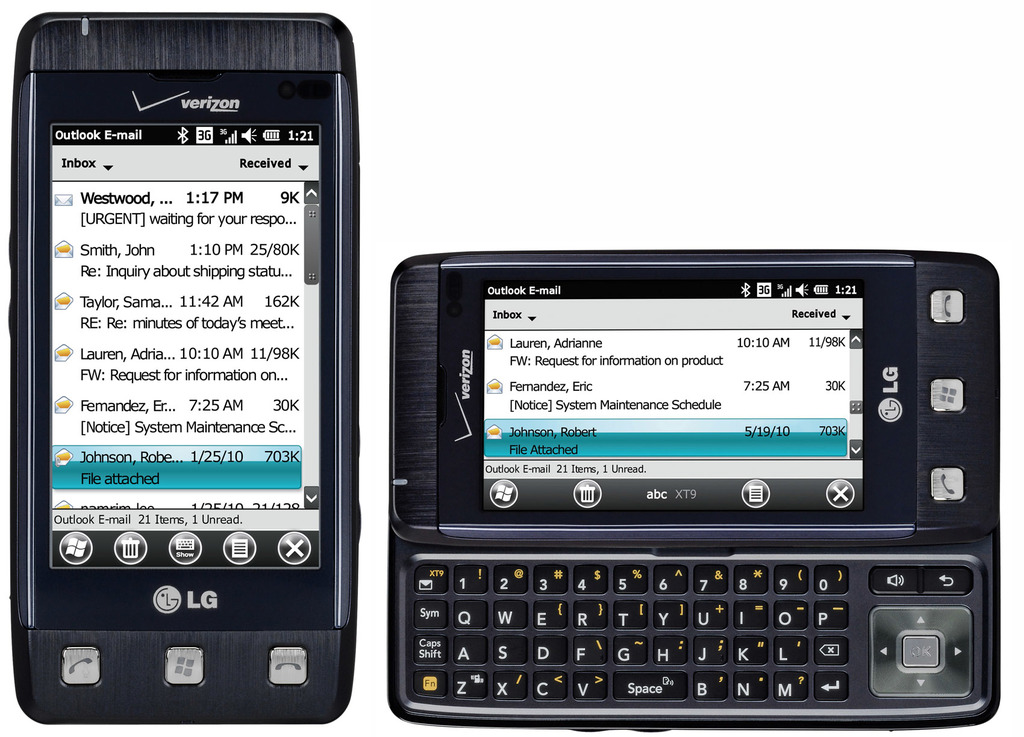mobile phone: (21, 15, 355, 721)
